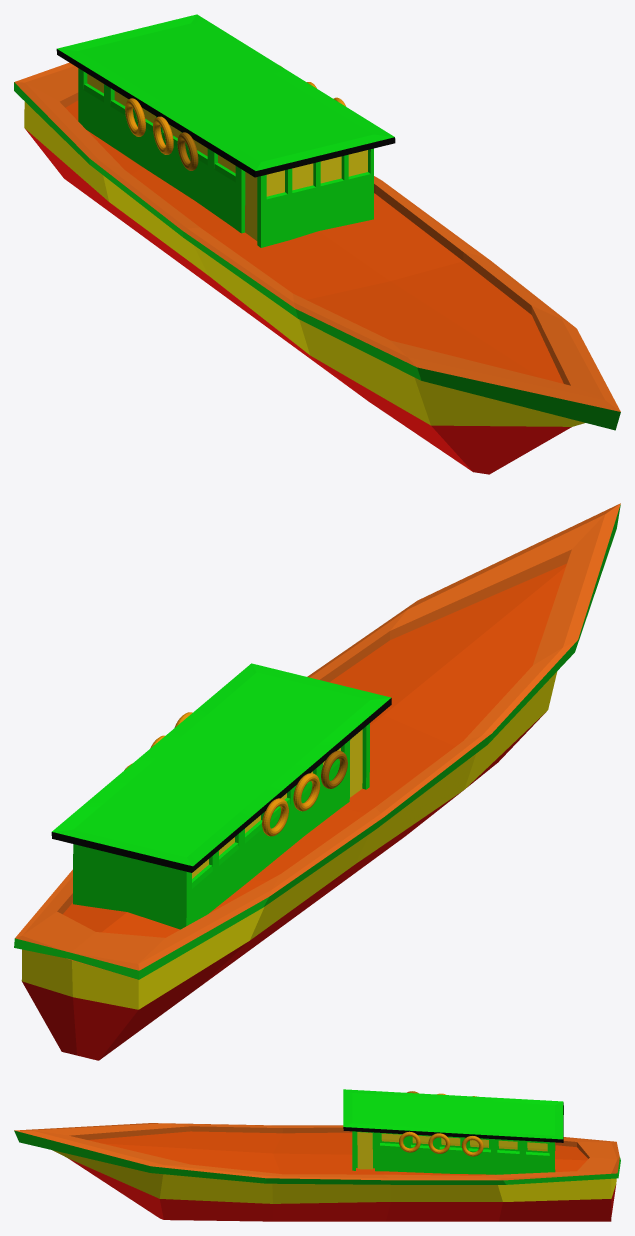
The model's file is kapal 1.fbx.
3 renders of one model, top to bottom at view 1: azimuth 30°, elevation 25°; view 2: azimuth 150°, elevation 25°; view 3: azimuth 270°, elevation 25°, orthographic. The views are drawn at different scales.
Parts seen in each view (by area): view 1: Cube.001, Cube; view 2: Cube.001, Cube; view 3: Cube.001, Cube, Torus.001, Torus.002, Torus.
Part boxes in pixels (bbox=[...]): Cube.001: bbox=[14, 62, 620, 474]; Cube: bbox=[56, 14, 395, 247]; Cube.001: bbox=[14, 503, 620, 1060]; Cube: bbox=[51, 663, 391, 929]; Cube.001: bbox=[14, 1123, 620, 1221]; Cube: bbox=[343, 1089, 563, 1174]; Torus.001: bbox=[428, 1133, 450, 1153]; Torus.002: bbox=[461, 1136, 483, 1156]; Torus: bbox=[399, 1131, 420, 1152].
Bounding box in the file's own units: 358 × 338 × 1679.
